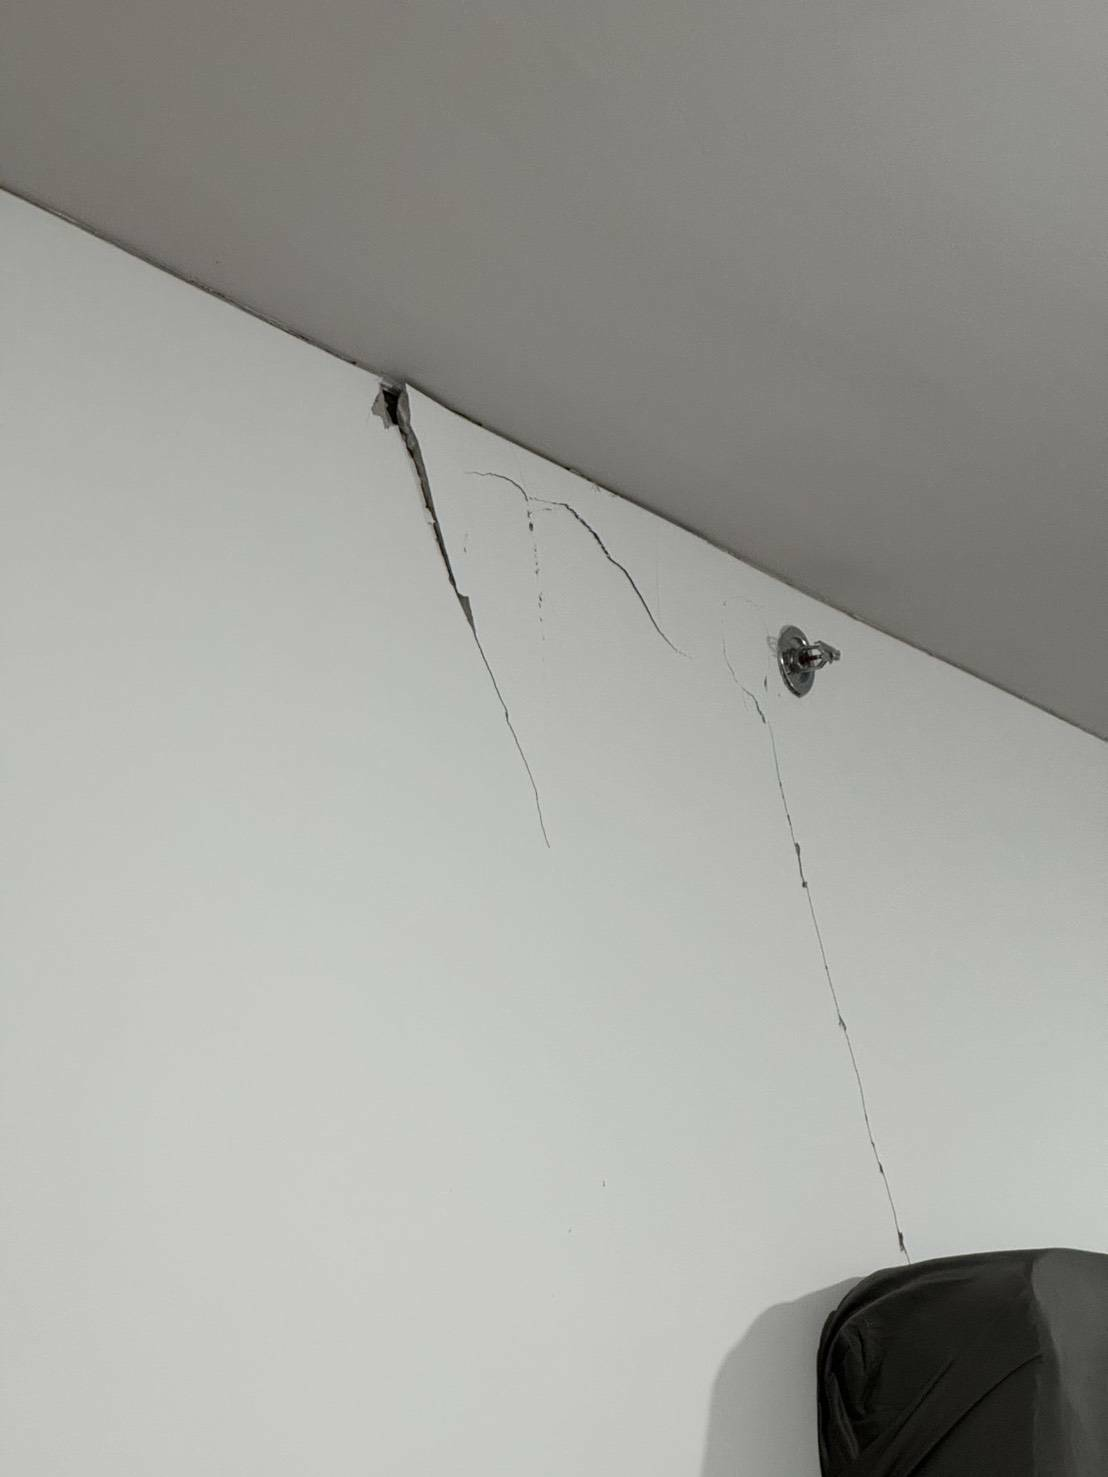Medium: (345, 372, 574, 767)
